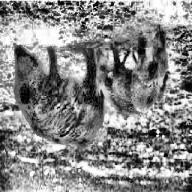boar: (13, 45, 104, 147), (95, 24, 169, 114)
